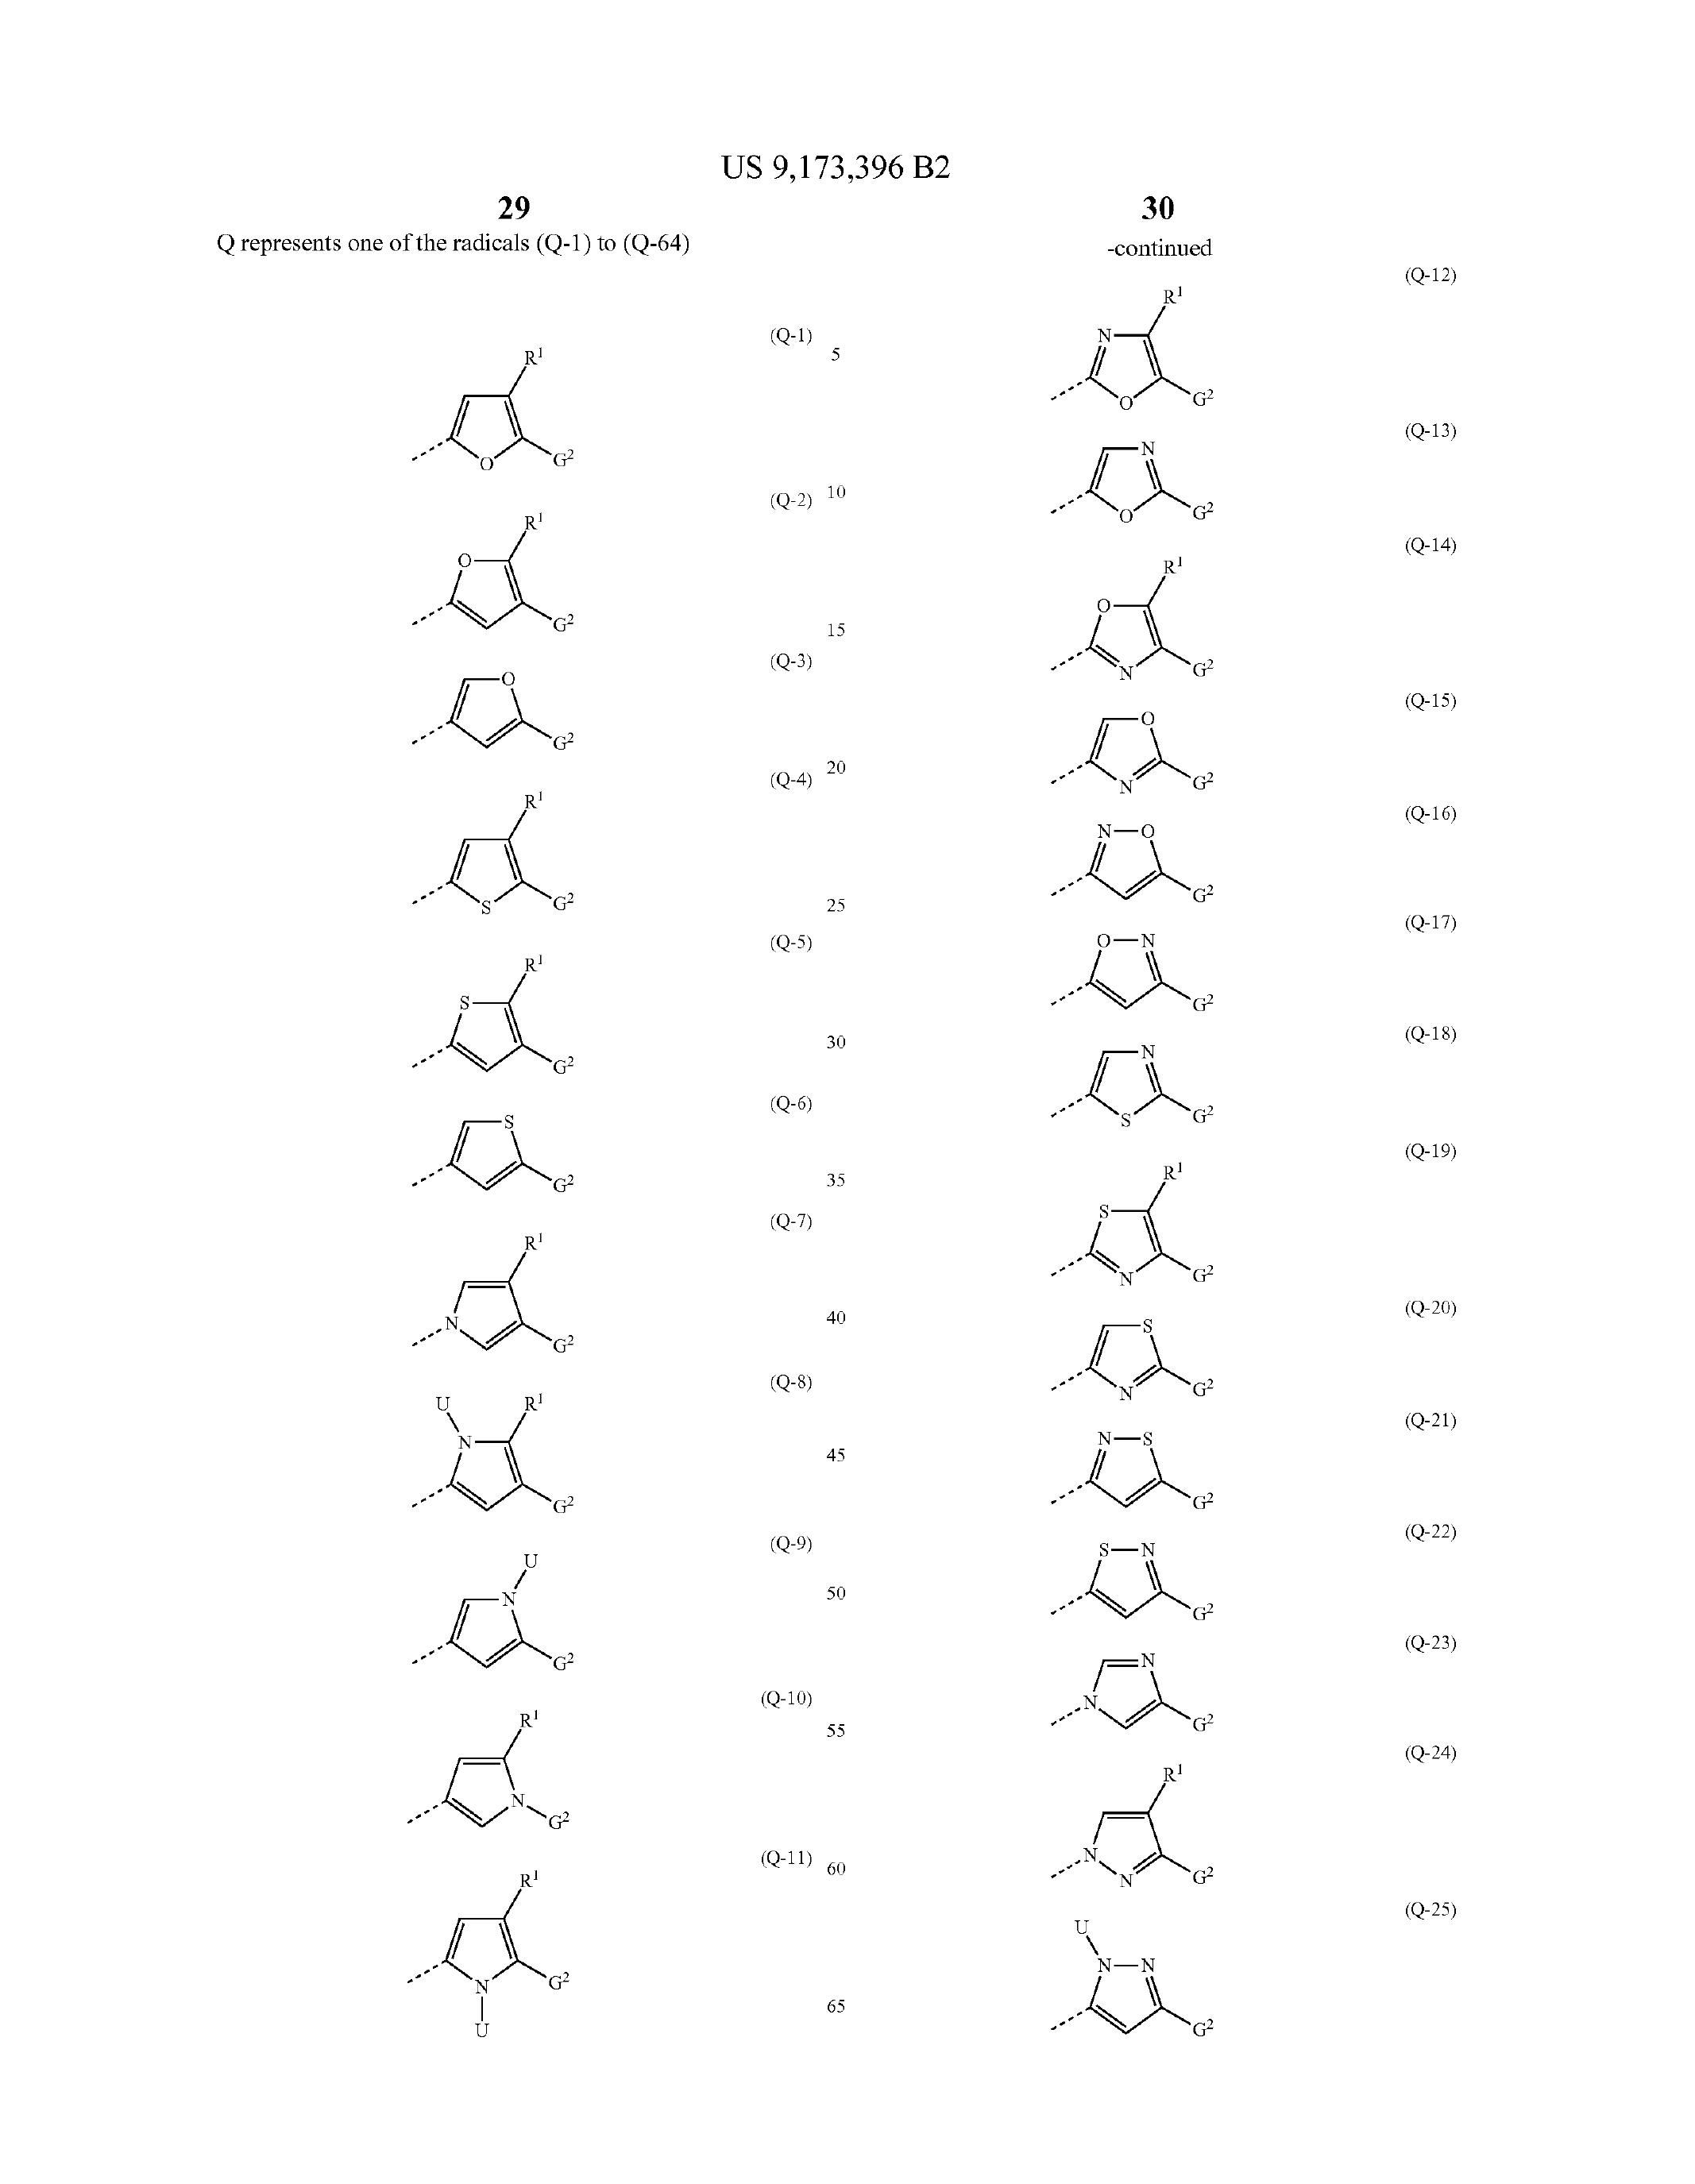intermediates: (294, 1672, 624, 2102)
